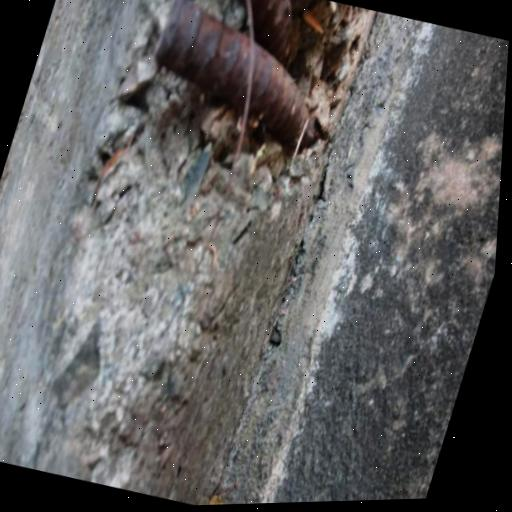exposed_rebar: (156, 0, 317, 149)
